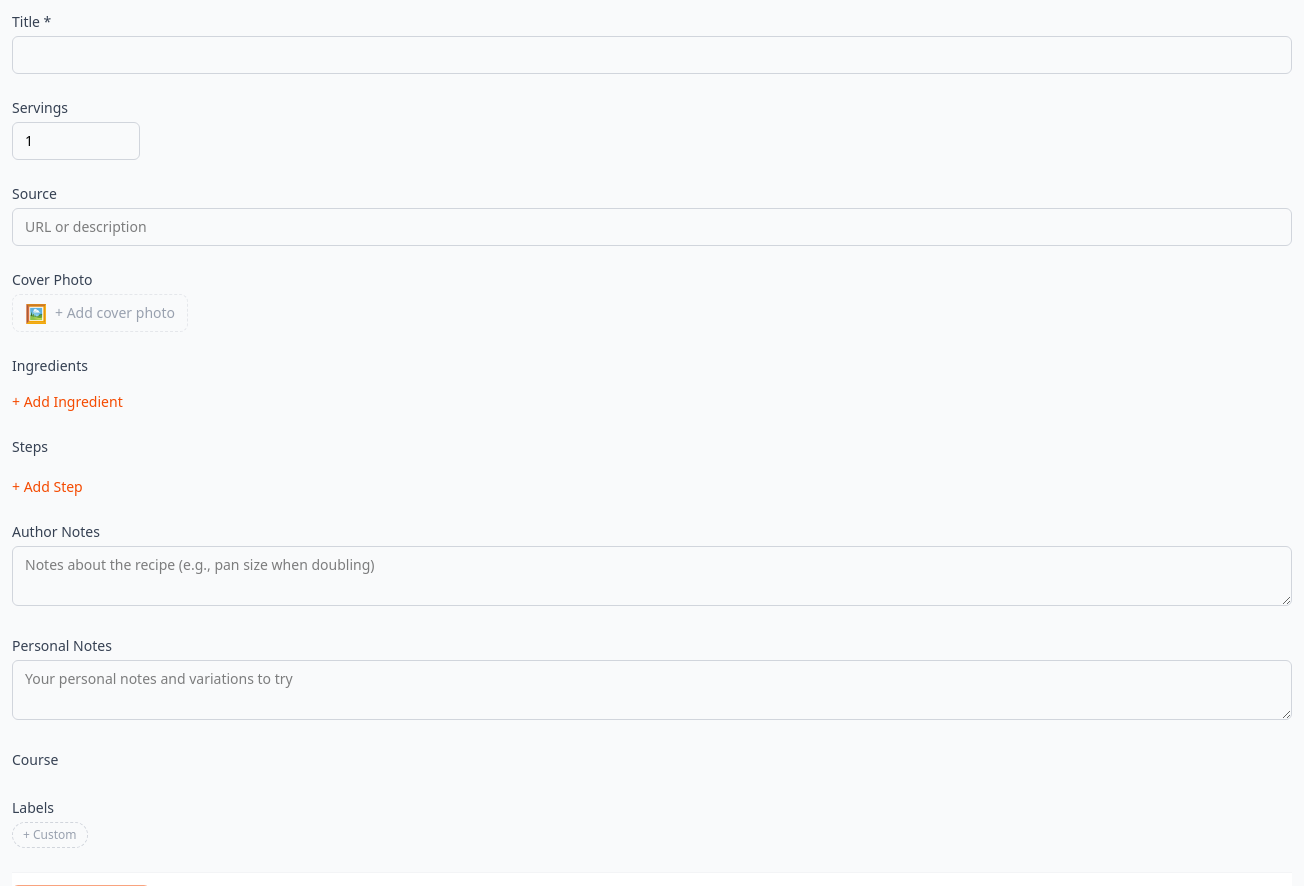
Test case: RecipeForm › shows drag handles for ingredients
This screenshot has width=1304, height=886.
Click the button "+ Add Ingredient".
click(67, 402)  # box top-left (12, 392), bottom-right (123, 412)
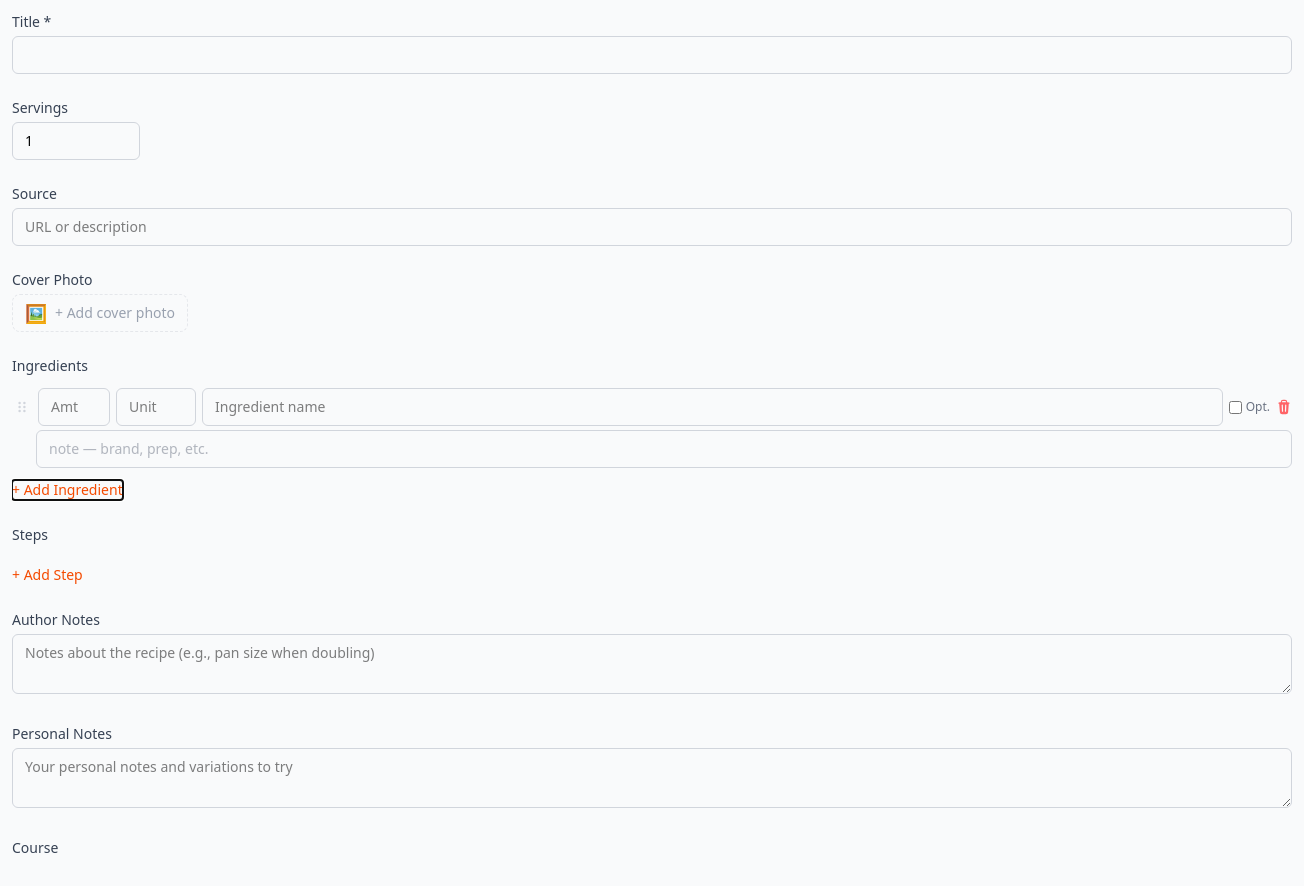
Expected: the element named "drag to reorder" is shown, top-left (14, 399), bottom-right (30, 415)
